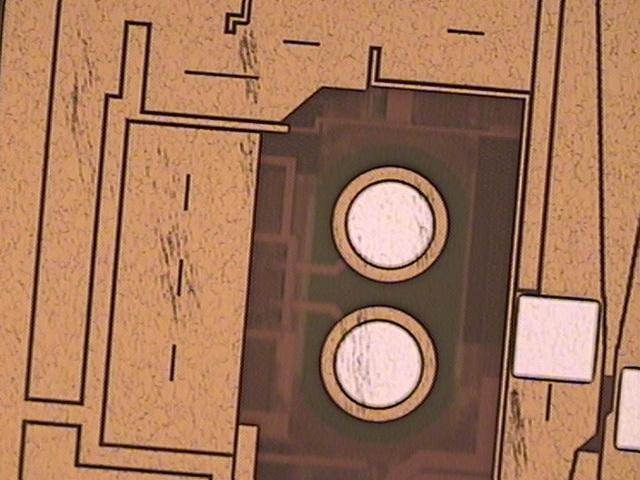SCRATCH: (59, 21, 450, 433)
